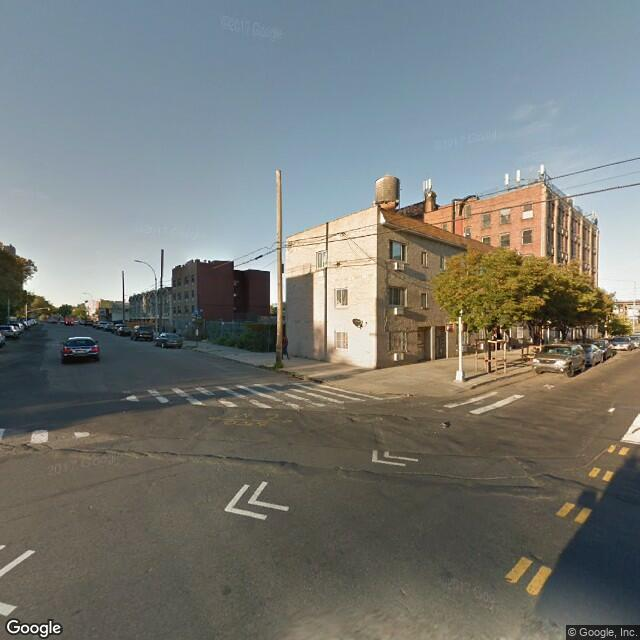litter: (440, 421, 448, 428)
